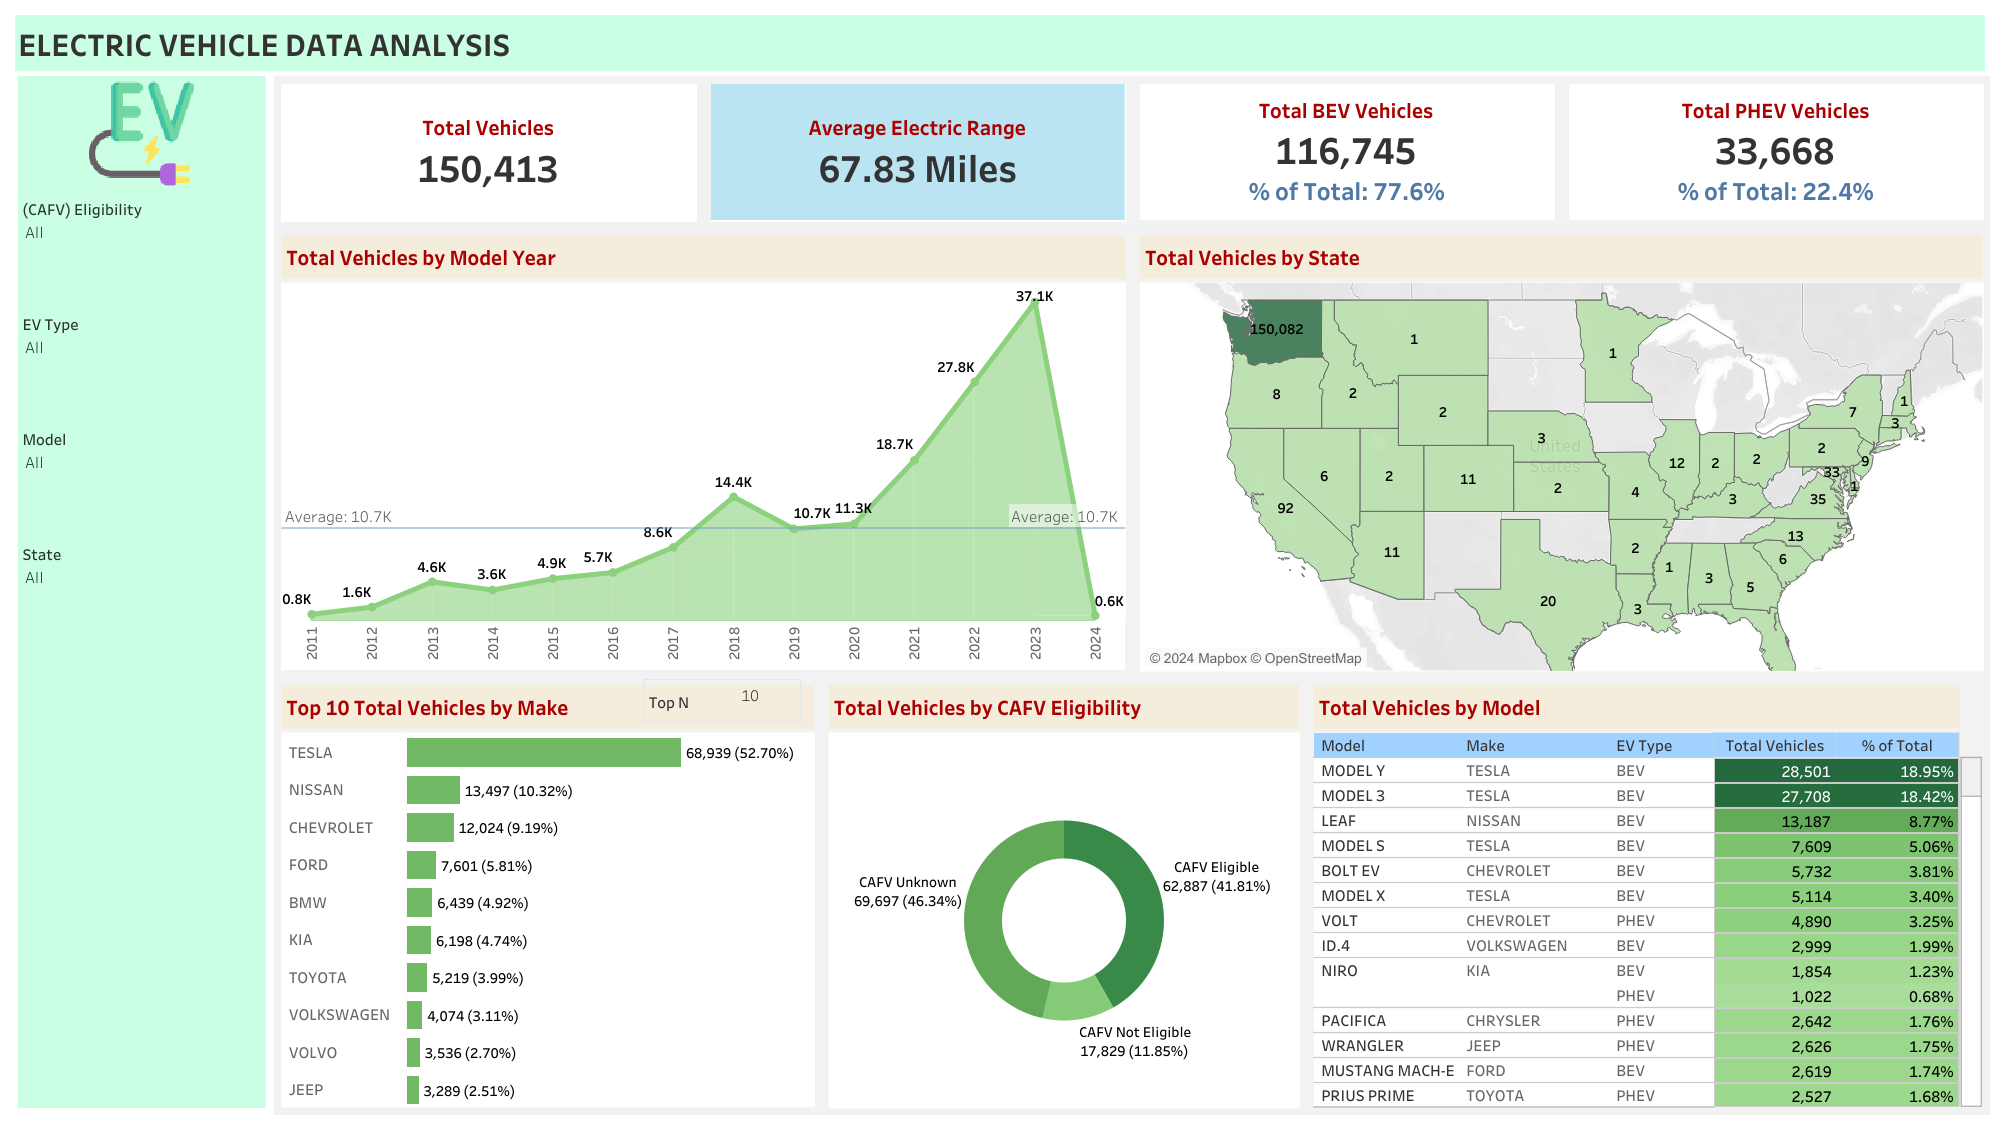

Layout of this report page (visuals, bound fields, positions):
{"tool":"tableau","page":{"name":"EV Data Analysis","canvas":[1600,900],"ordinal":0},"visuals":[{"type":"title","box":[8,8,1584,53]},{"type":"image","param":"Image/6944173.png","box":[14,61,199,92]},{"type":"worksheet","title":"Total Vehicles","mark":"Automatic","box":[219,61,344,121]},{"type":"worksheet","title":"Average Electric Range","mark":"Automatic","box":[563,61,343,121]},{"type":"worksheet","title":"Total BEV Vehicles","mark":"Automatic","box":[906,61,343,121]},{"type":"worksheet","title":"Total PHEV Vehicles","mark":"Automatic","box":[1249,61,343,121]},{"type":"filter","title":"Total Vehicles by Model Year","param":"[federated.1rmlii31vc14on1b6bpn606r8nfz].[none:Clean Alternative Fuel Vehicle (C","box":[14,153,199,92]},{"type":"worksheet","title":"Total Vehicles by Model Year","mark":"Area","rows":["Calculation_1261852386783797248","Calculation_1261852386783797248"],"cols":["Model Year"],"box":[219,182,687,360]},{"type":"worksheet","title":"Total Vehicles by State","mark":"Multipolygon","box":[906,182,686,360]},{"type":"filter","title":"Total Vehicles by Model Year","param":"[federated.1rmlii31vc14on1b6bpn606r8nfz].[none:Electric Vehicle Type:nk]","box":[14,245,199,92]},{"type":"filter","title":"Total Vehicles by Model Year","param":"[federated.1rmlii31vc14on1b6bpn606r8nfz].[none:Model:nk]","box":[14,337,199,92]},{"type":"filter","title":"Total Vehicles by Model Year","param":"[federated.1rmlii31vc14on1b6bpn606r8nfz].[none:State:nk]","box":[14,429,199,92]},{"type":"blank","box":[14,521,199,92]},{"type":"worksheet","title":"Top 10 Total Vehicles by Make","mark":"Automatic","rows":["Make"],"cols":["Calculation_1261852386783797248"],"box":[219,542,438,350]},{"type":"worksheet","title":"Total Vehicles by CAFV Eligibility","mark":"Pie","rows":["Calculation_1261852386800766983","Calculation_1261852386800766983"],"box":[657,542,388,350]},{"type":"worksheet","title":"Total Vehicles by Model","mark":"Square","rows":["Model","Make","Electric Vehicle Type"],"box":[1045,542,547,350]},{"type":"parameter","param":"[Parameters].[Parameter 1]","box":[515,543,126,35]},{"type":"blank","box":[14,613,199,91]},{"type":"blank","box":[14,704,199,91]},{"type":"blank","box":[14,795,199,91]}]}

Visuals, with their boxes in screenshot pixels (x1, y1, x2, y2), scaled from the page's 1600x900 canvas onto the 1999x1124 screenshot:
title: detection(10, 10, 1989, 76)
image: detection(17, 76, 266, 191)
"Total Vehicles" worksheet: detection(274, 76, 703, 227)
"Average Electric Range" worksheet: detection(703, 76, 1132, 227)
"Total BEV Vehicles" worksheet: detection(1132, 76, 1560, 227)
"Total PHEV Vehicles" worksheet: detection(1560, 76, 1989, 227)
"Total Vehicles by Model Year" filter: detection(17, 191, 266, 306)
"Total Vehicles by Model Year" worksheet (Area marks): detection(274, 227, 1132, 677)
"Total Vehicles by State" worksheet (Multipolygon marks): detection(1132, 227, 1989, 677)
"Total Vehicles by Model Year" filter: detection(17, 306, 266, 421)
"Total Vehicles by Model Year" filter: detection(17, 421, 266, 536)
"Total Vehicles by Model Year" filter: detection(17, 536, 266, 651)
blank: detection(17, 651, 266, 766)
"Top 10 Total Vehicles by Make" worksheet: detection(274, 677, 821, 1114)
"Total Vehicles by CAFV Eligibility" worksheet (Pie marks): detection(821, 677, 1306, 1114)
"Total Vehicles by Model" worksheet (Square marks): detection(1306, 677, 1989, 1114)
parameter: detection(643, 678, 801, 722)
blank: detection(17, 766, 266, 879)
blank: detection(17, 879, 266, 993)
blank: detection(17, 993, 266, 1107)
